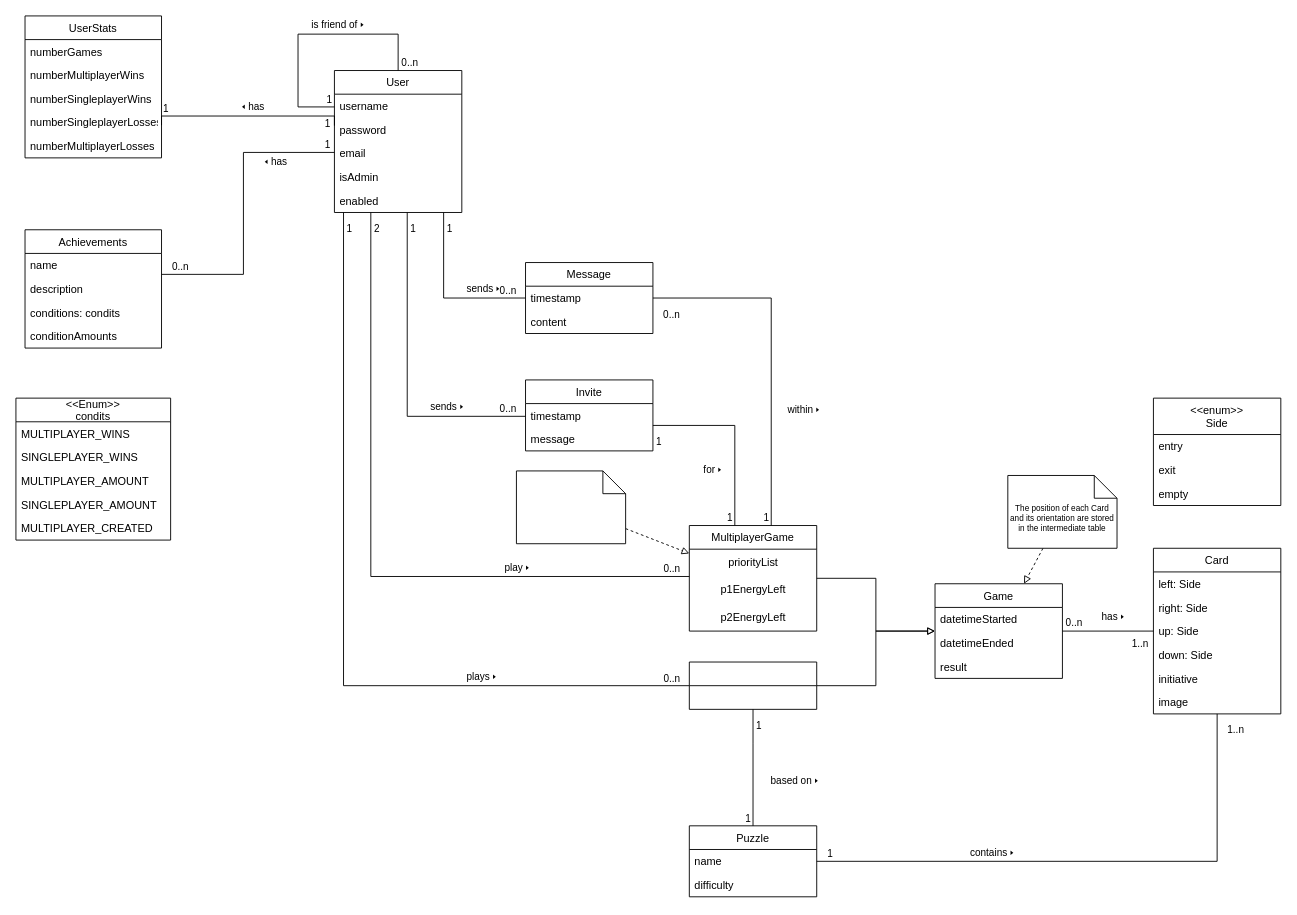
Image size: 1297x915. Some labels were removed from this diagram. Each missing label, with the centre of its shape:
SingleplayerGame: the point at 752,685
The Energy Points for each player are stored in the intermediate table: the point at 571,507
